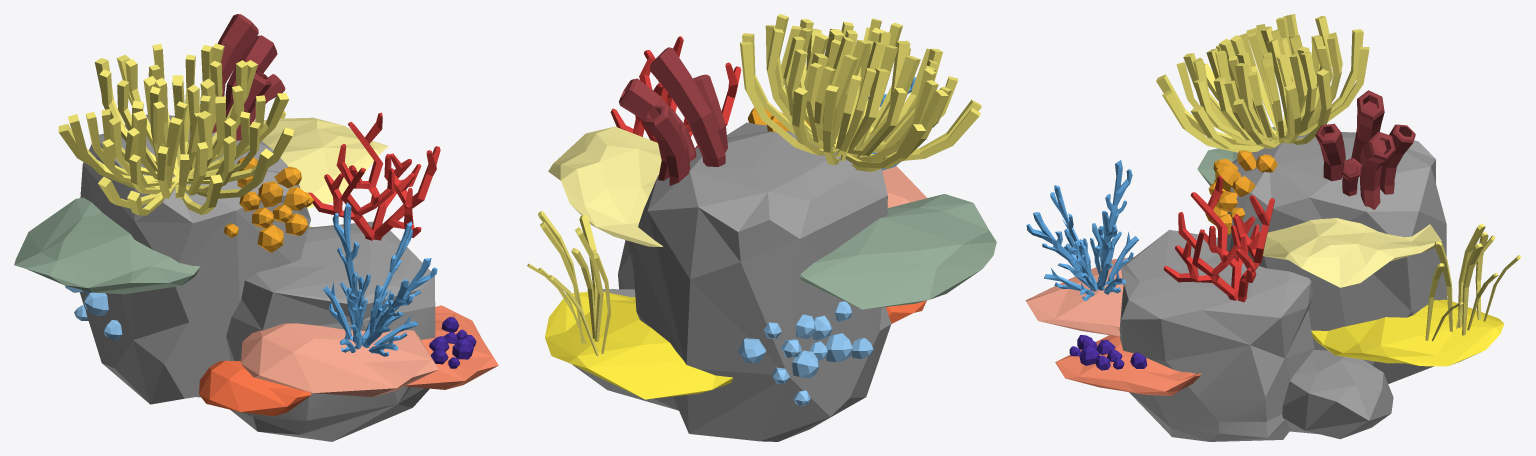
The model's file is Coral_reef_012.glb.
3 renders of one model, left to right at view 1: azimuth 30°, elevation 25°; view 2: azimuth 150°, elevation 25°; view 3: azimuth 270°, elevation 25°, orthographic. The views are drawn at different scales.
Visible parts, largest first — view 1: Coral_reef_012; view 2: Coral_reef_012; view 3: Coral_reef_012.
Boxes of the visible parts, <box> form: Coral_reef_012: <box>14,14,498,441</box>; Coral_reef_012: <box>527,14,996,441</box>; Coral_reef_012: <box>1025,14,1521,441</box>.
Size of the model in its own units: 3.19 by 2.86 by 3.8.
Materials: 1 (1 with a texture image).
